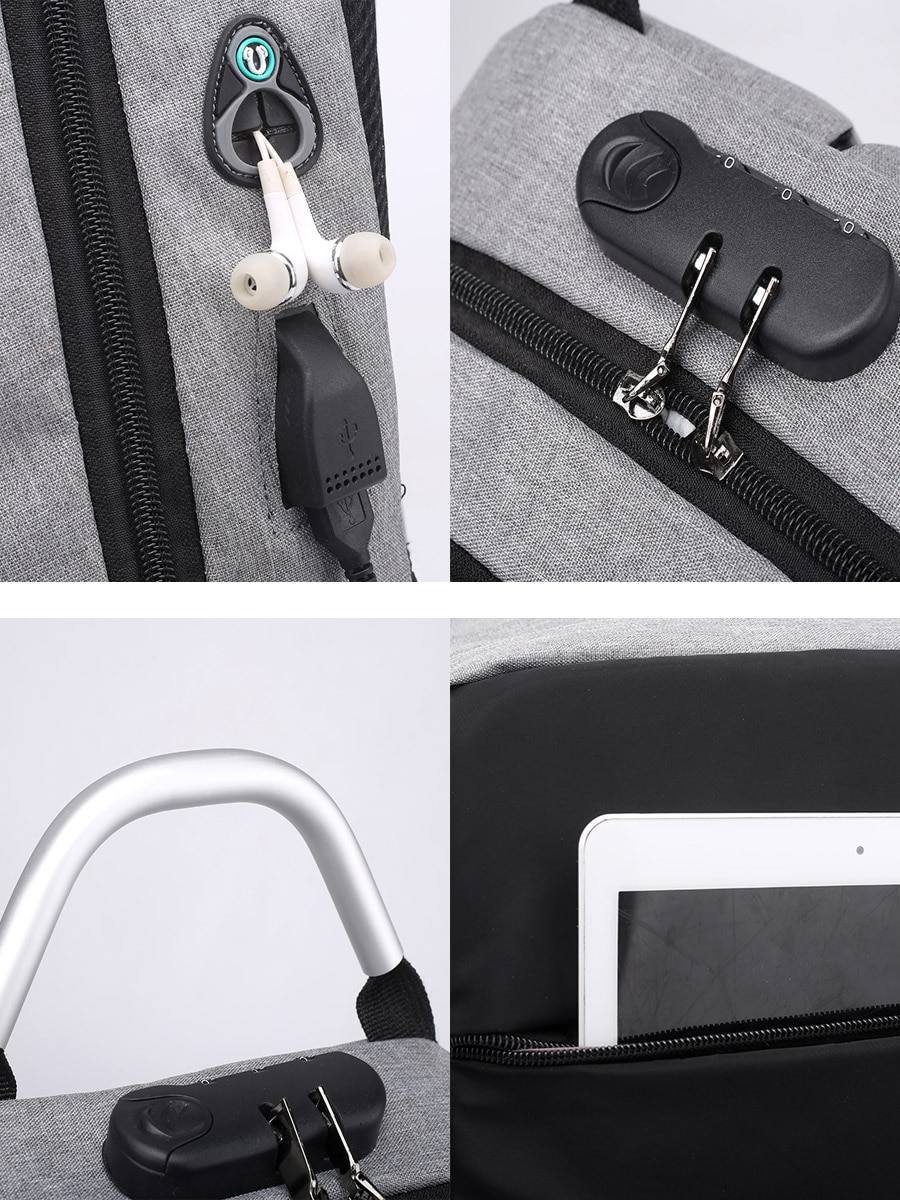Men's Backpacks: (450, 1, 900, 585)
